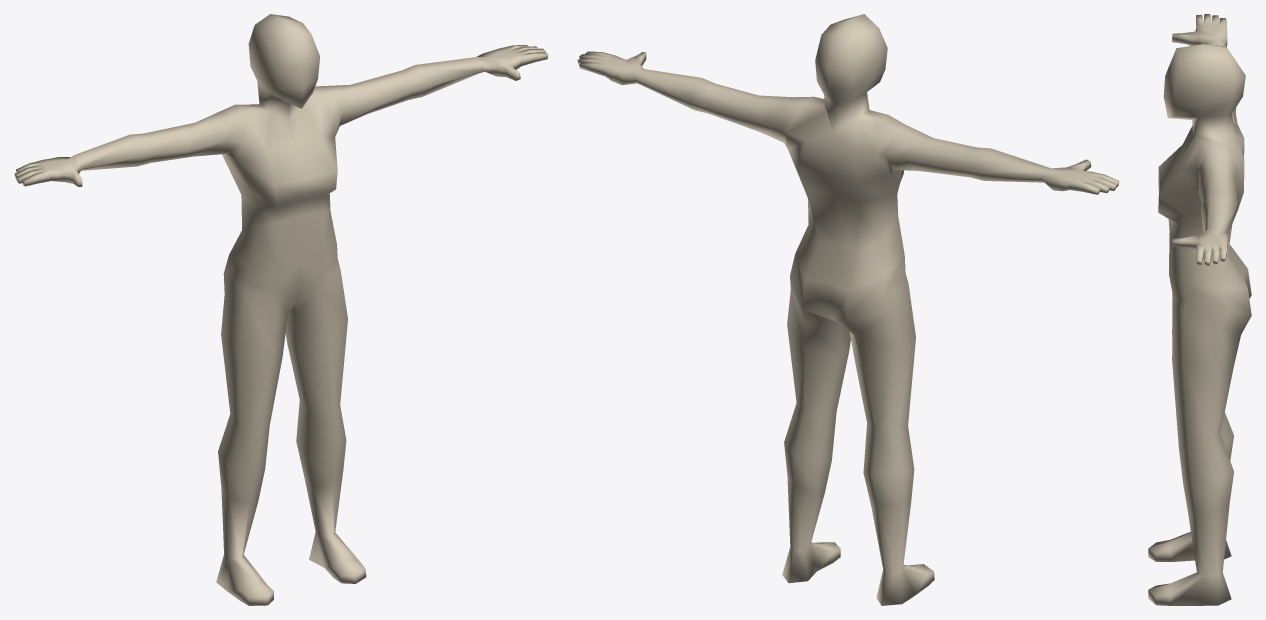
File: human_female.fbx
The picture shows the model from 3 angles, left to right: view 1: azimuth 30°, elevation 25°; view 2: azimuth 150°, elevation 25°; view 3: azimuth 270°, elevation 25°; orthographic projection. The views are drawn at different scales.
Visible parts, largest first — view 1: HumanFemale; view 2: HumanFemale; view 3: HumanFemale.
Part boxes in pixels (x1=…): HumanFemale: x1=14, y1=14, x2=548, y2=605; HumanFemale: x1=577, y1=14, x2=1119, y2=605; HumanFemale: x1=1148, y1=14, x2=1251, y2=605.
Bounding box in the file's own units: 1.77 × 1.78 × 0.313.
